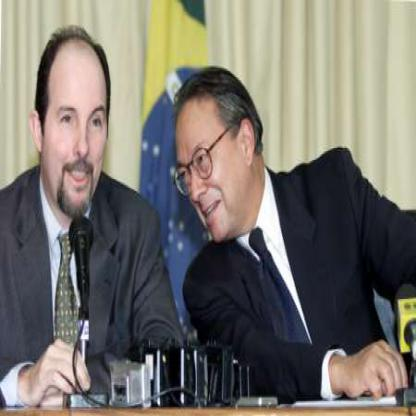face: (42, 34, 110, 219), (174, 85, 249, 248)
